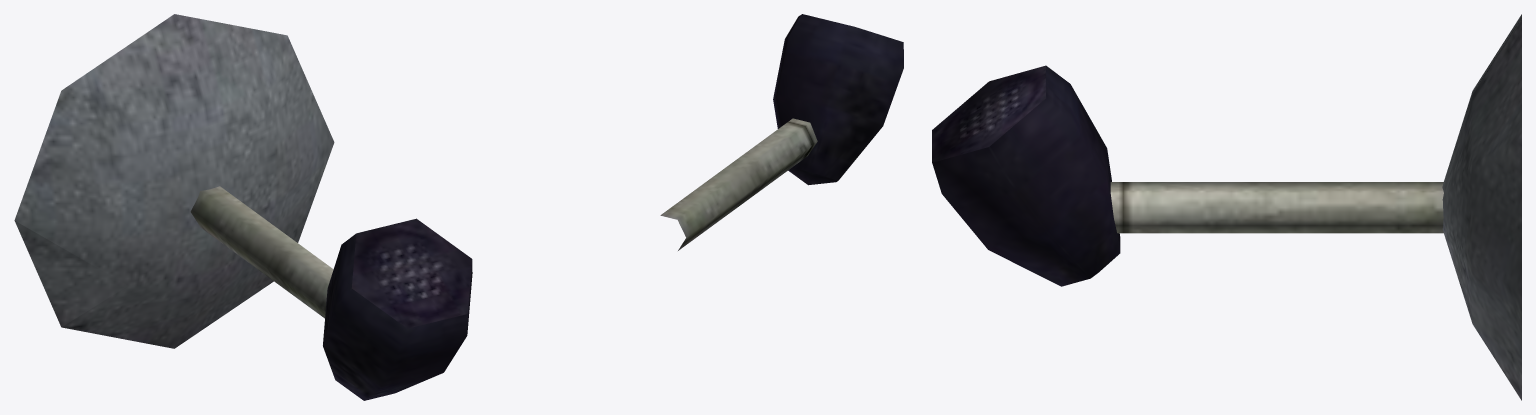
Rendered from military_german_microphone.glb.
3 renders of one model, left to right at view 1: azimuth 30°, elevation 25°; view 2: azimuth 150°, elevation 25°; view 3: azimuth 270°, elevation 25°, orthographic. The views are drawn at different scales.
Bounding box in the file's own units: 9.18 × 9.18 × 13.14.
1 material, 1 textured.
